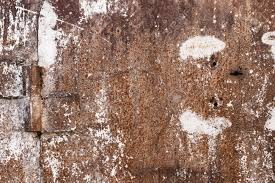rust: (2, 1, 275, 182)
